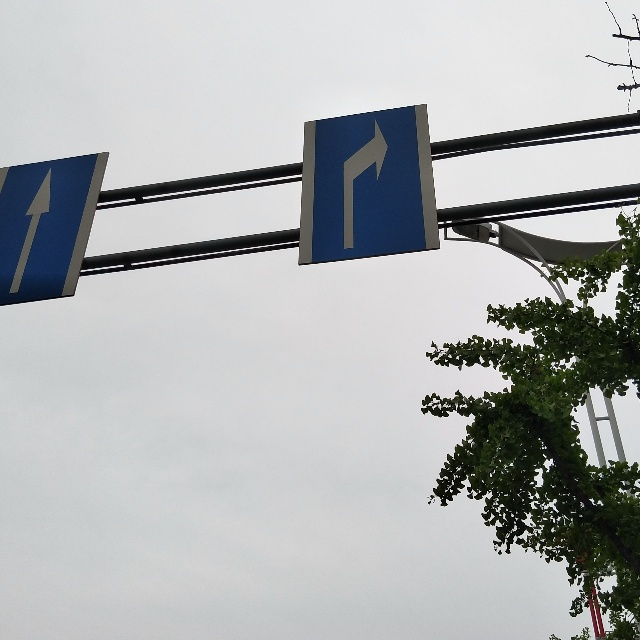right: (322, 116, 403, 253)
straight: (8, 162, 57, 297)
